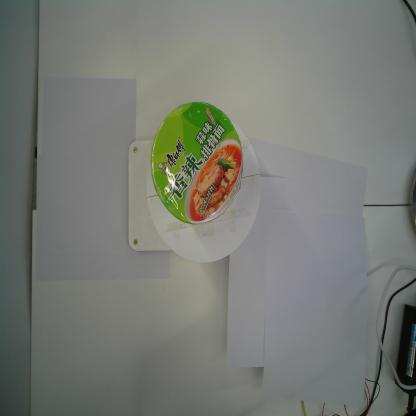Instant Noodles: (151, 101, 244, 225)
